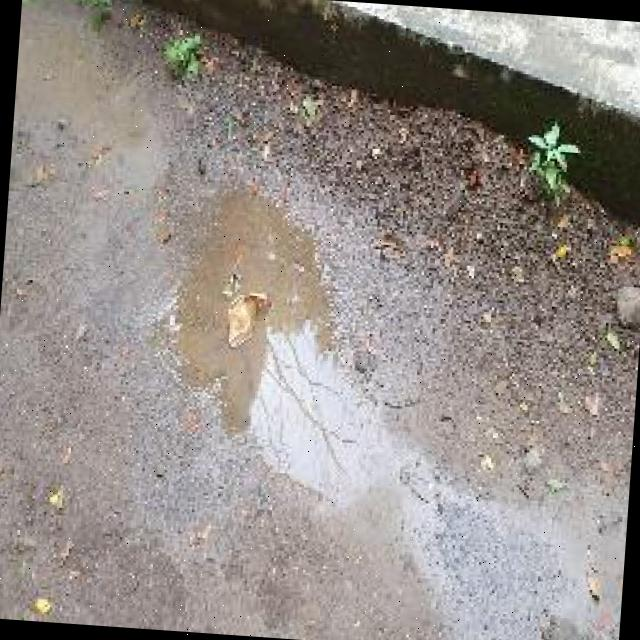stagnation: (143, 153, 370, 440)
